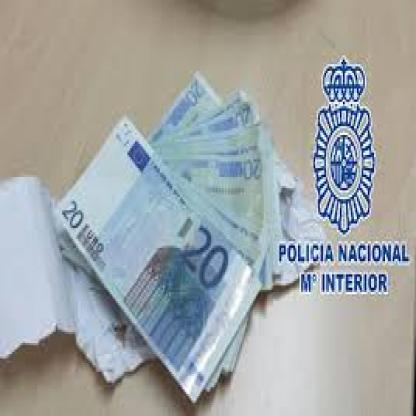billete: (50, 71, 321, 405)
